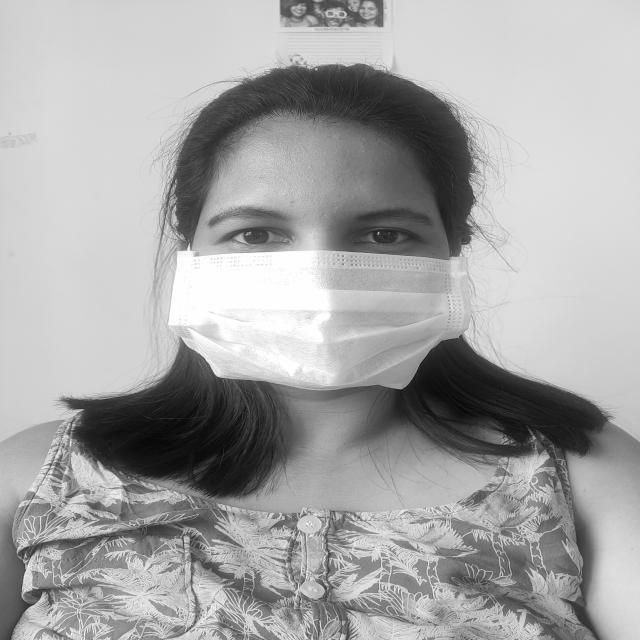fake: (166, 250, 473, 398)
real: (191, 112, 451, 398)
